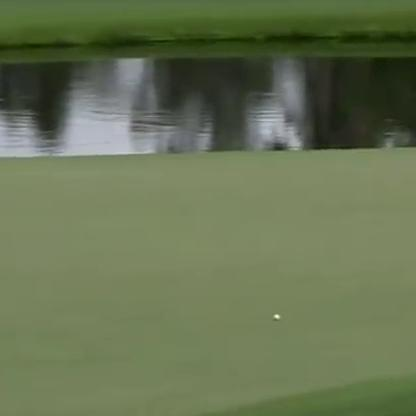golfball: (271, 311, 278, 318)
